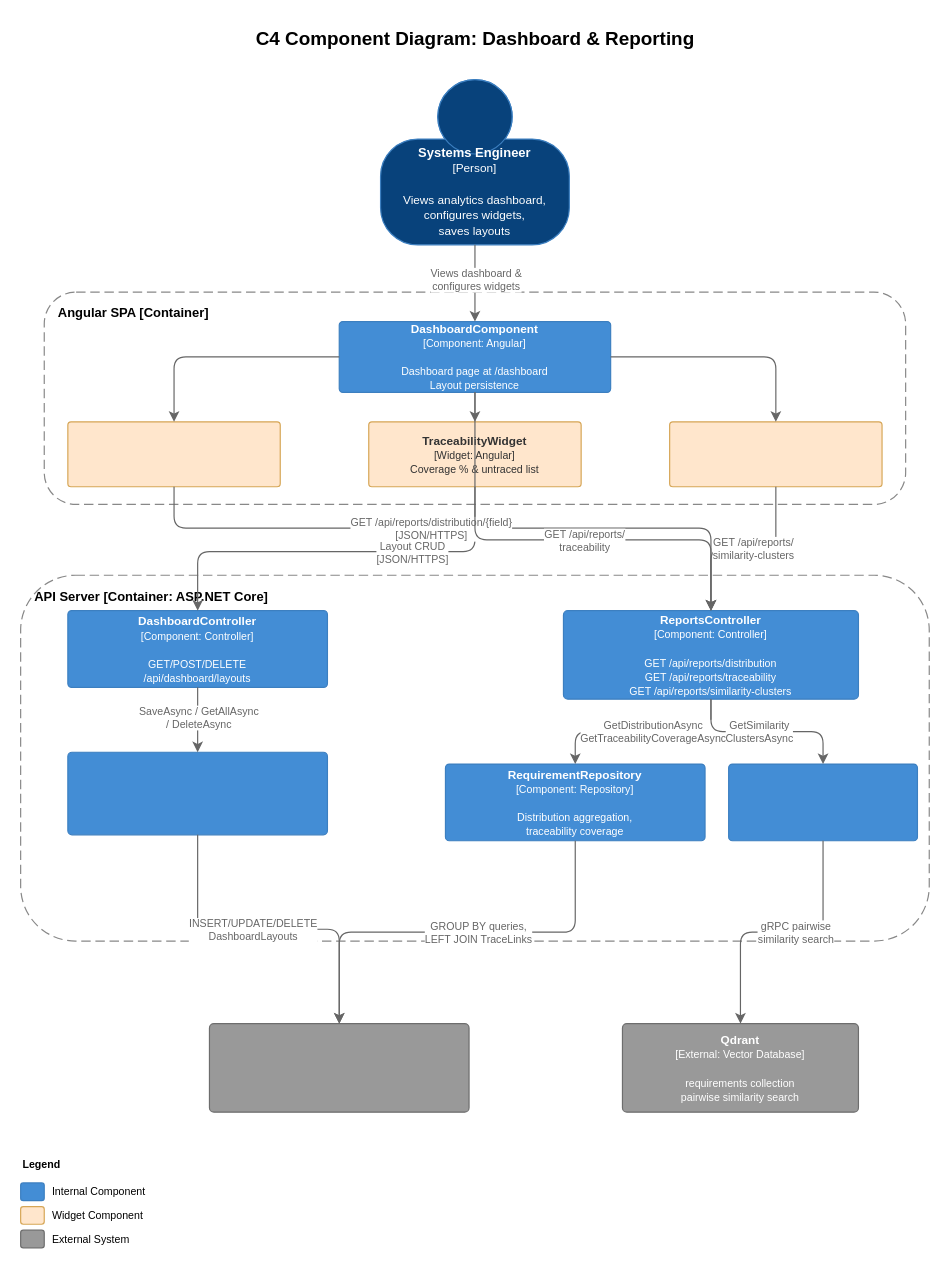
Image size: 950x1271. Some labels were removed from this diagram. Each missing label, with the centre of its shape:
"DashboardLayout Repository [Component: Repository] CRUD for saved layouts" goes at point 197,793.
"DistributionChart [Widget: Angular] Chart.js bar charts" goes at point 173,454.
"SearchService [Component: Service] Similarity clustering via vector search" goes at point 822,802.
"SimilarityClusters [Widget: Angular] Threshold-based clusters" goes at point 775,454.
"SQLite [External: Database] DashboardLayouts, Requirements, TraceLinks" goes at point 338,1067.
